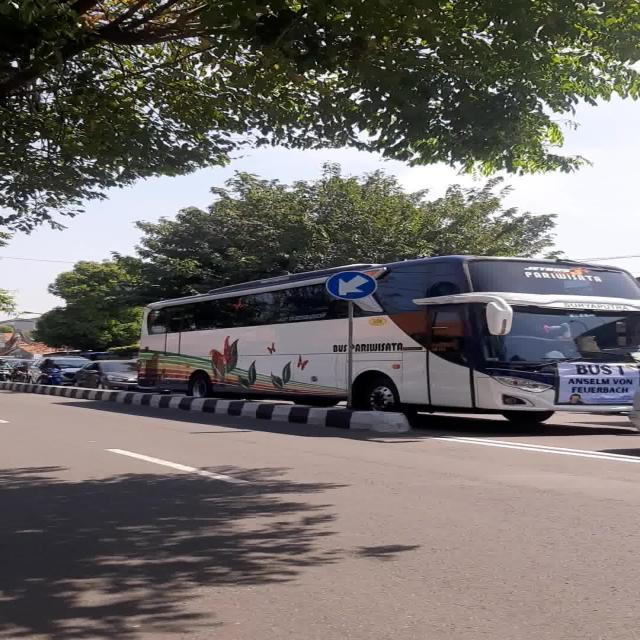Lajur Kiri: (325, 270, 378, 300)
